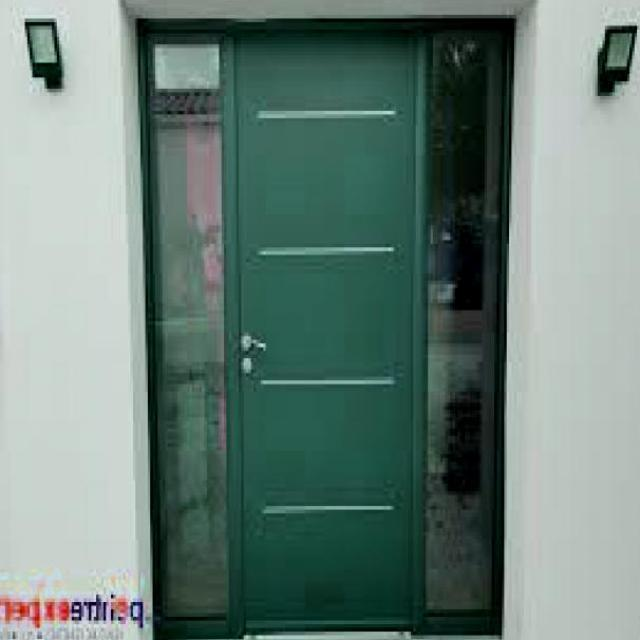door: (225, 27, 426, 634)
